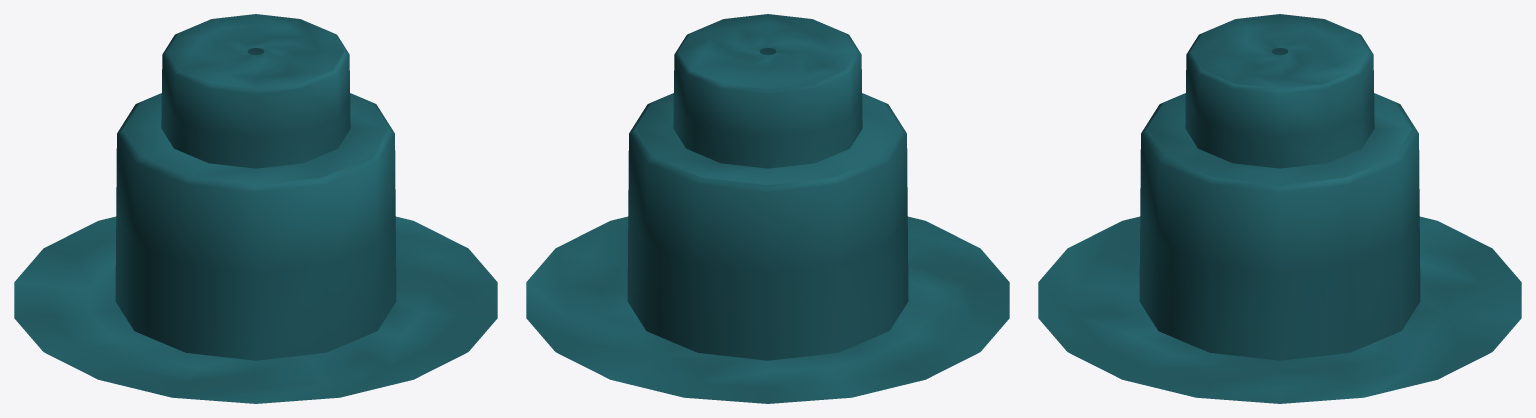
3 renders of one model, left to right at view 1: azimuth 30°, elevation 25°; view 2: azimuth 150°, elevation 25°; view 3: azimuth 270°, elevation 25°, orthographic.
Visible parts, largest first — view 1: water; view 2: water; view 3: water.
Boxes of the visible parts, box(x1,y1,x2,y2) form: water: box(14, 14, 497, 403); water: box(526, 14, 1009, 403); water: box(1038, 14, 1521, 403).
Size of the model in its own units: 0.5 by 0.2819 by 0.4924.
